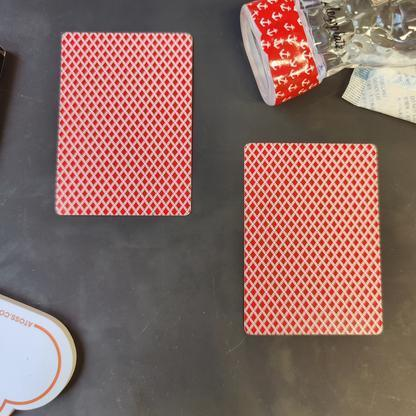card: (231, 131, 393, 347), (43, 22, 204, 226)
